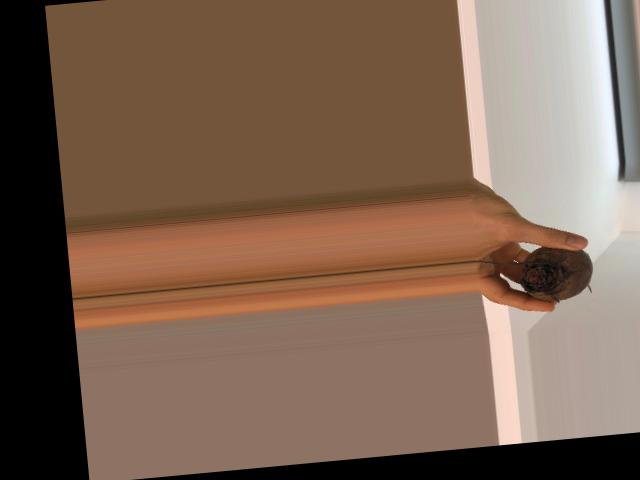beet: (474, 240, 596, 310)
